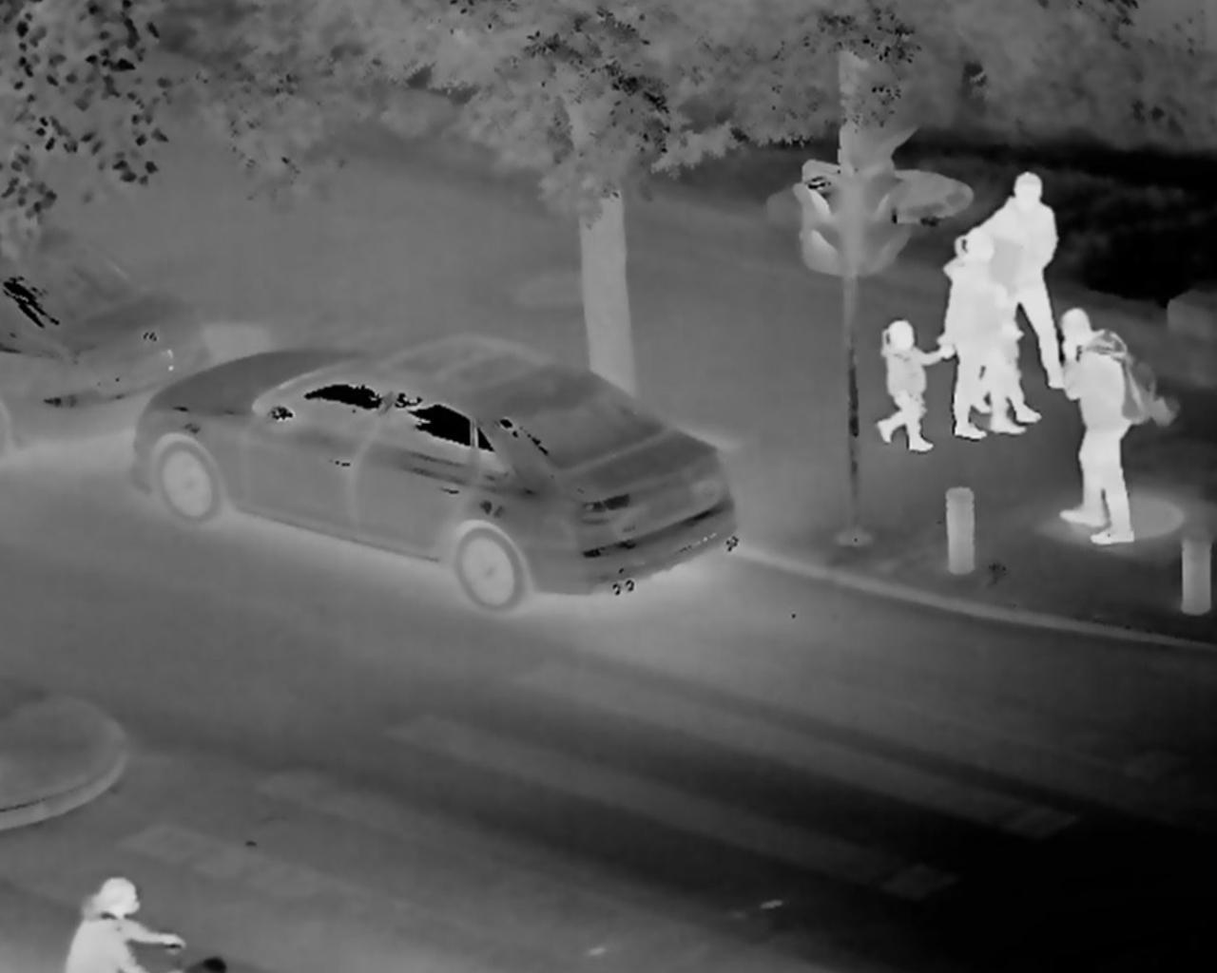person: (1067, 314, 1161, 552), (992, 169, 1068, 399), (56, 874, 191, 973), (938, 225, 992, 436), (981, 283, 1041, 435), (877, 318, 935, 458)
